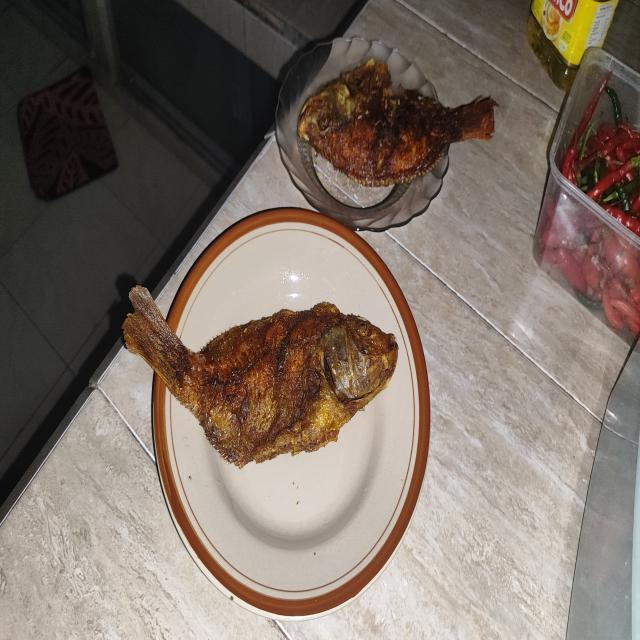ikan_mujair: (122, 286, 398, 468), (298, 58, 497, 186)
